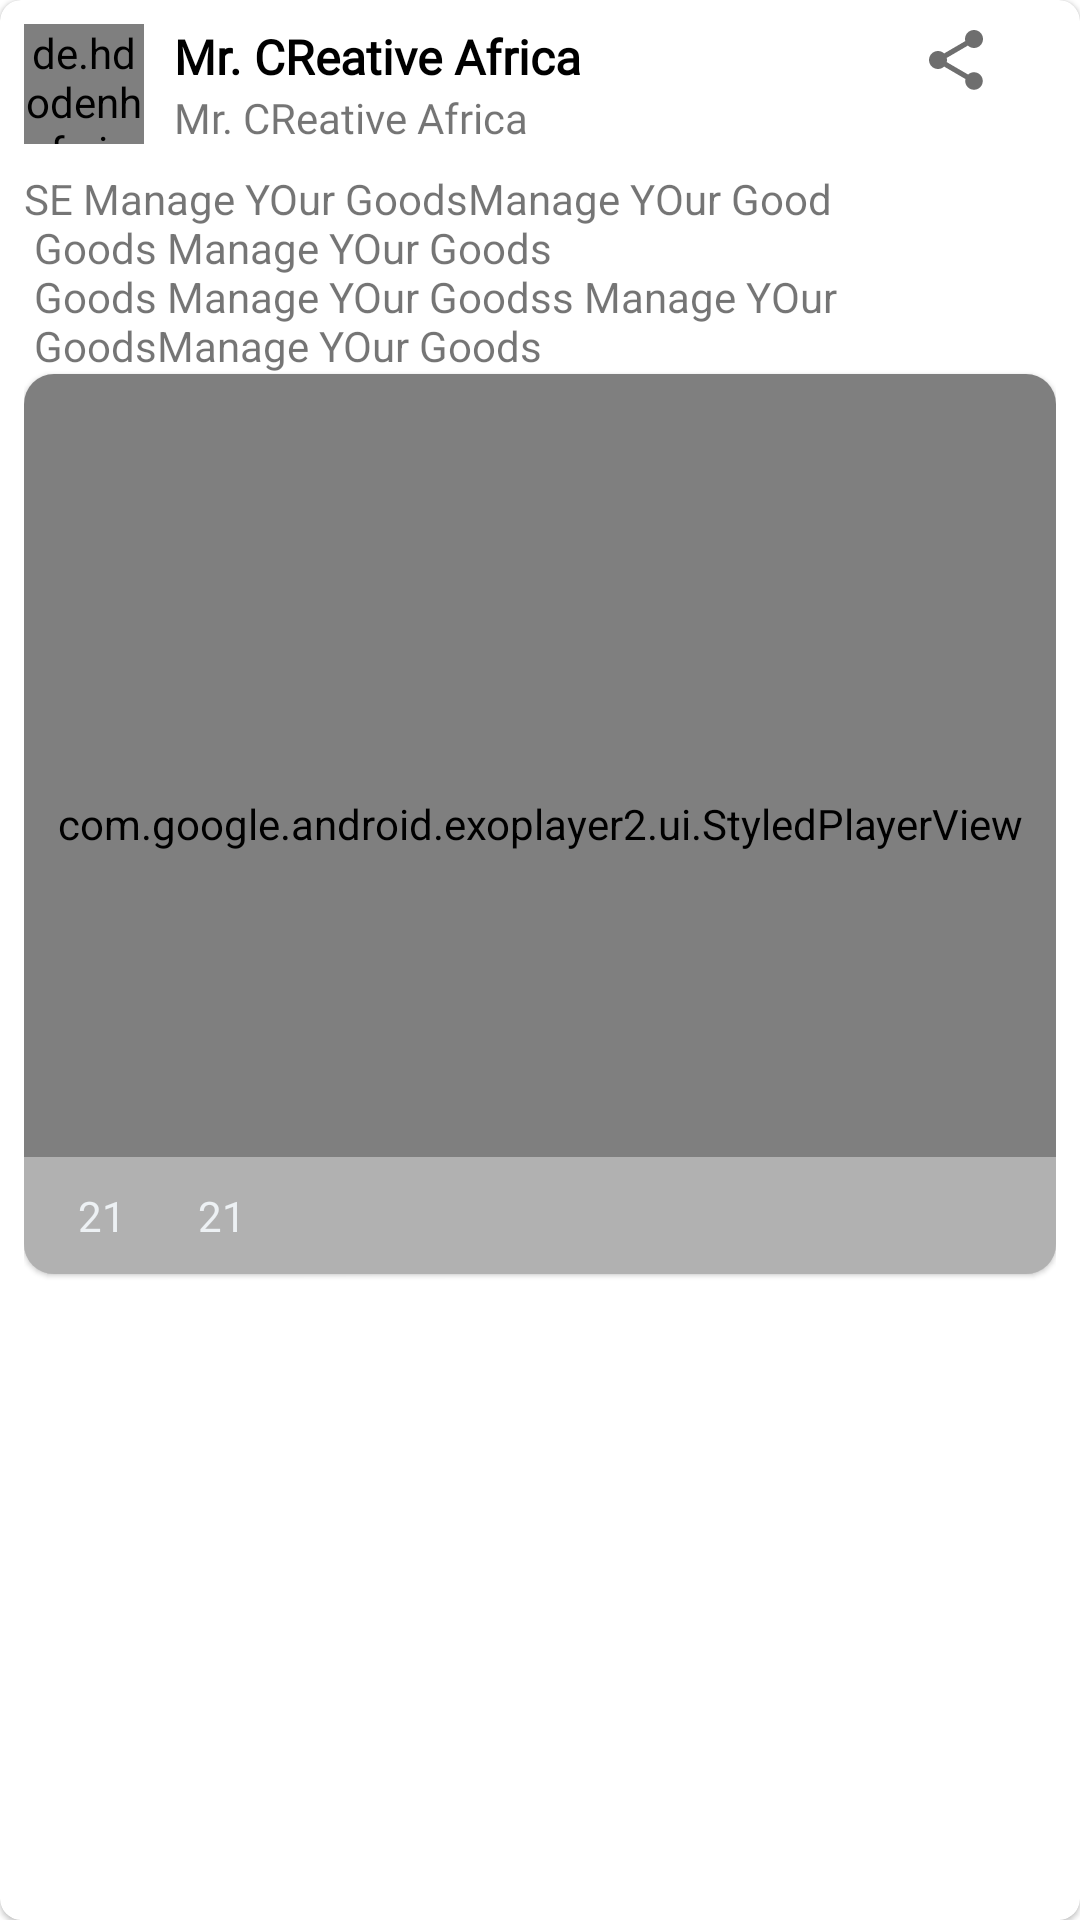

Icon bounding boxes for this 1080x1920 phone screenshot, format detection(x1, y1, x2, y2):
share: detection(929, 30, 983, 90)
